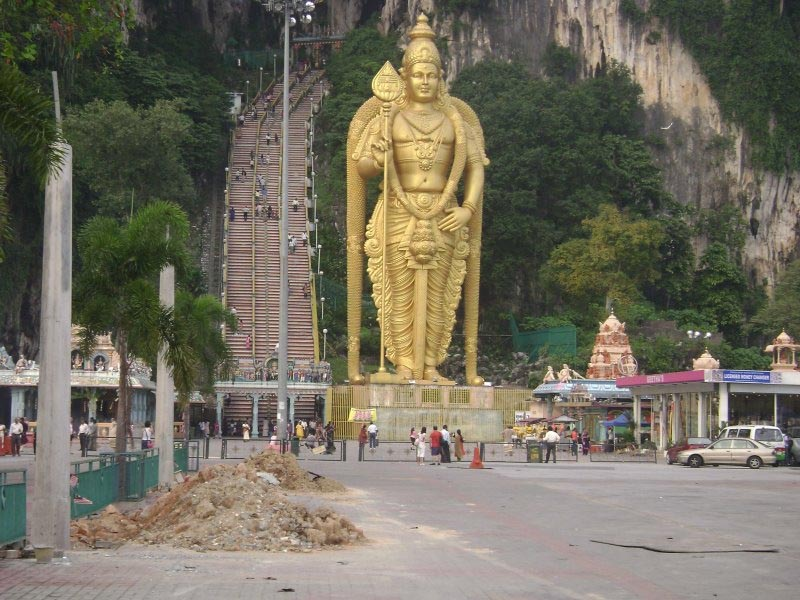Hindu Temple: (333, 7, 489, 385)
